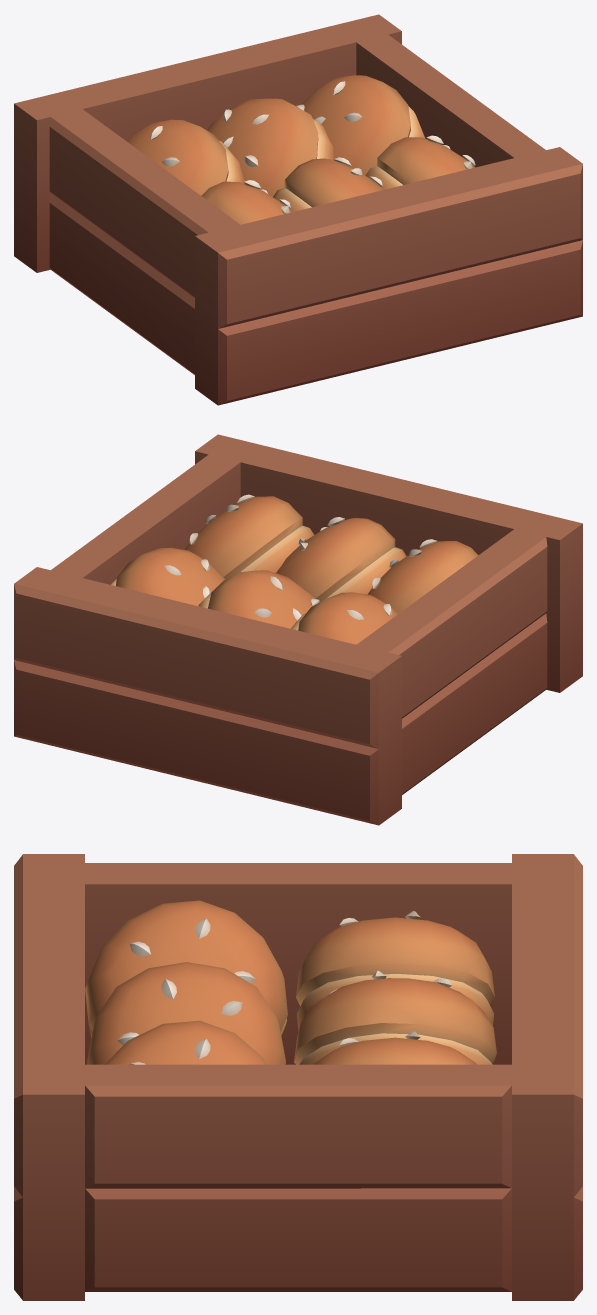
File: Crate of Buns.glb
The picture shows the model from 3 angles, top to bottom: view 1: azimuth 30°, elevation 25°; view 2: azimuth 150°, elevation 25°; view 3: azimuth 270°, elevation 25°; orthographic projection. The views are drawn at different scales.
Visible parts, largest first — view 1: crate_buns; view 2: crate_buns; view 3: crate_buns.
Boxes of the visible parts, x1,y1,x2,y2 form: crate_buns: (14, 14, 582, 405); crate_buns: (14, 434, 582, 825); crate_buns: (14, 854, 582, 1300).
Bounding box in the file's own units: 2 × 0.8024 × 2.
1 material, 1 textured.
